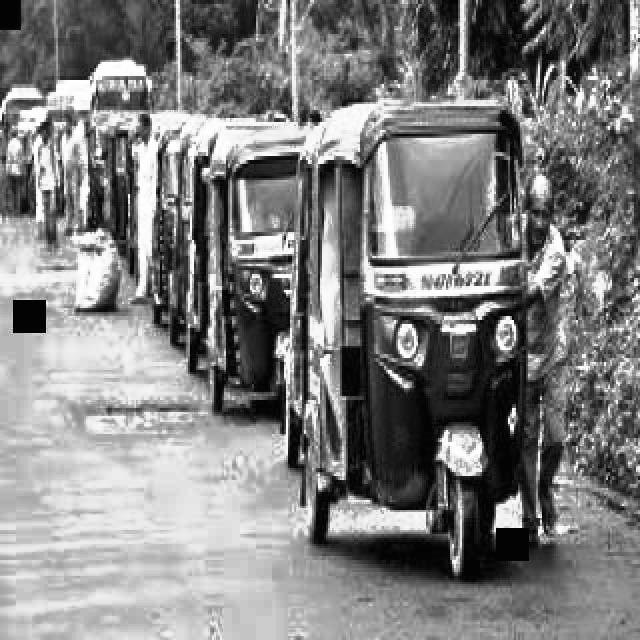Auto-Rickshaw: (290, 114, 550, 564), (207, 127, 305, 415)
